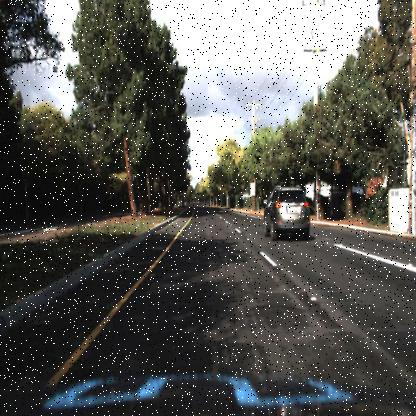car: (262, 184, 312, 242)
